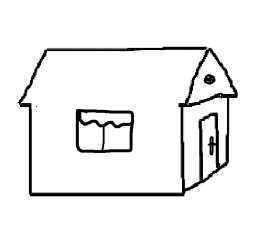closed_window: (69, 103, 143, 155)
door: (193, 110, 223, 182)
roof: (12, 39, 249, 106)
wall: (24, 94, 189, 201)
